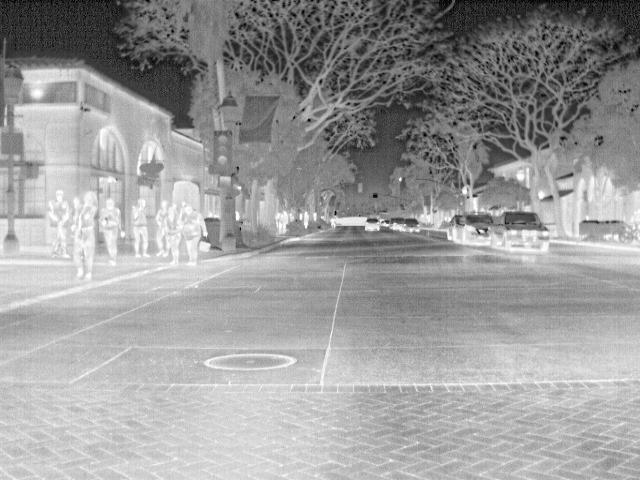car: (488, 210, 551, 256), (461, 210, 496, 249), (445, 212, 463, 246), (399, 218, 421, 234), (364, 216, 381, 232)
person: (70, 192, 100, 286), (48, 190, 74, 262), (98, 195, 126, 261), (182, 204, 210, 266), (131, 197, 155, 260), (164, 204, 181, 266), (154, 196, 170, 256), (299, 208, 312, 233), (278, 209, 290, 234)
